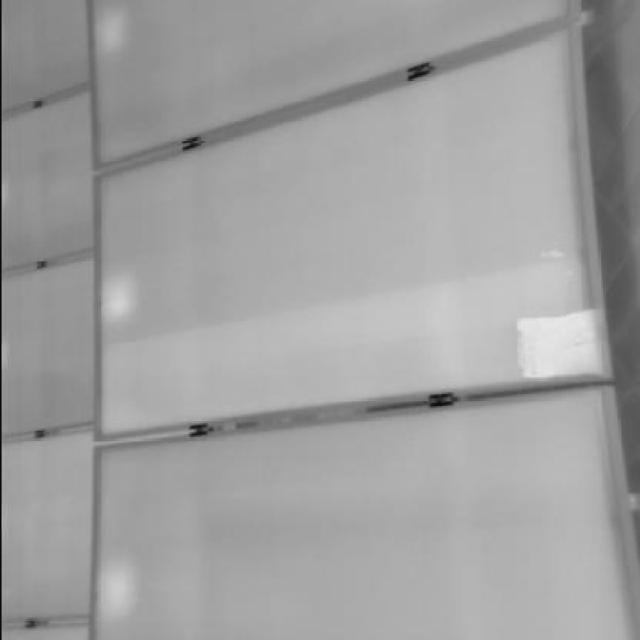hotspot: (512, 304, 608, 388)
